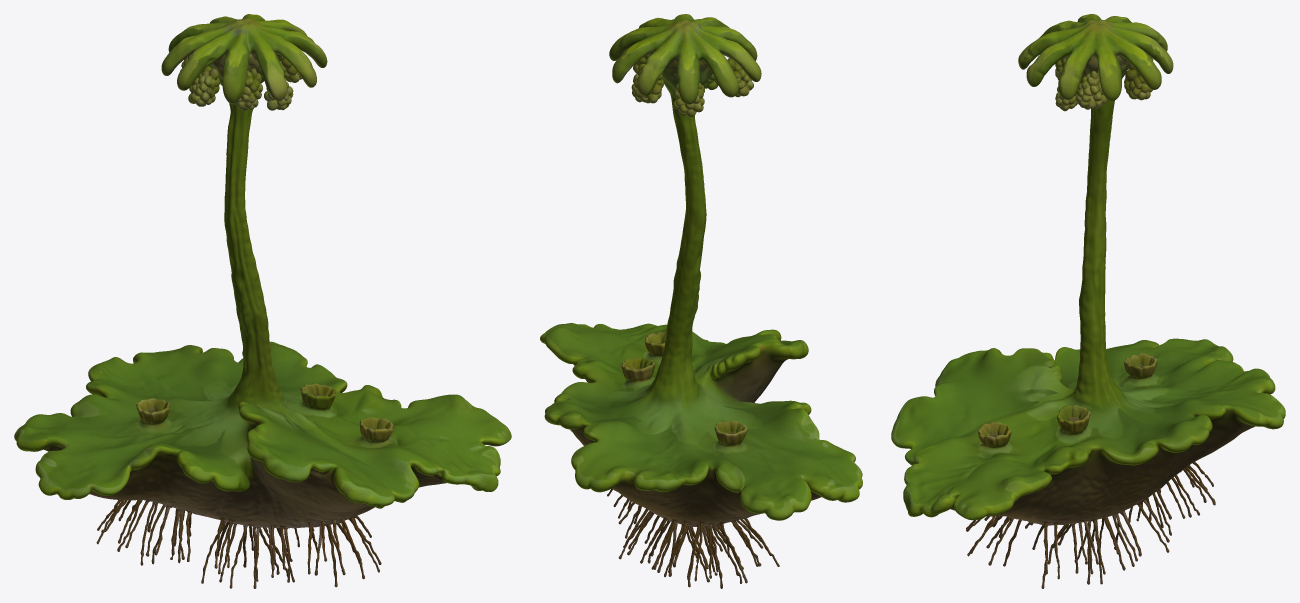
Rendered from talo.glb.
3 renders of one model, left to right at view 1: azimuth 30°, elevation 25°; view 2: azimuth 150°, elevation 25°; view 3: azimuth 270°, elevation 25°, orthographic. The views are drawn at different scales.
Size of the model in its own units: 1.45 by 2 by 1.31.
1 material, 1 textured.
